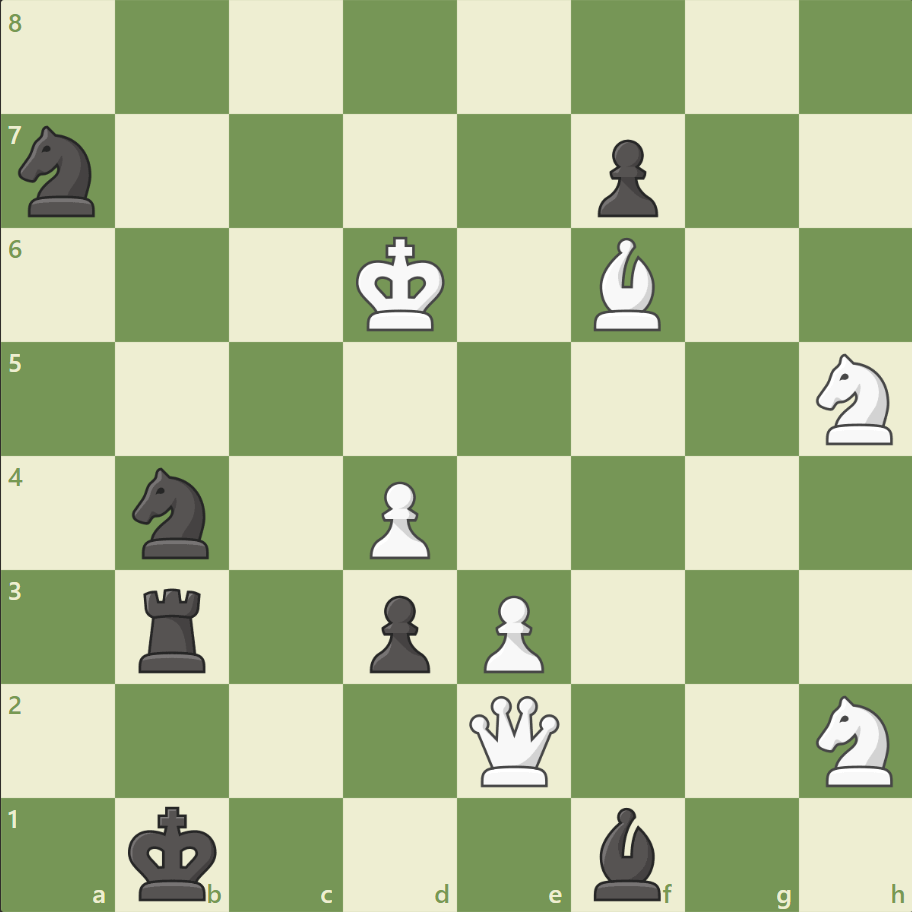B: (585, 233, 669, 336)
K: (351, 231, 451, 339)
N: (806, 688, 903, 791), (806, 348, 903, 450)
P: (474, 586, 549, 677), (361, 473, 435, 564)
Q: (464, 690, 563, 789)
b: (585, 801, 669, 904)
k: (124, 798, 224, 906)
n: (124, 461, 222, 564), (11, 121, 108, 223)
p: (588, 132, 662, 223), (361, 586, 435, 677)
r: (133, 579, 215, 676)
